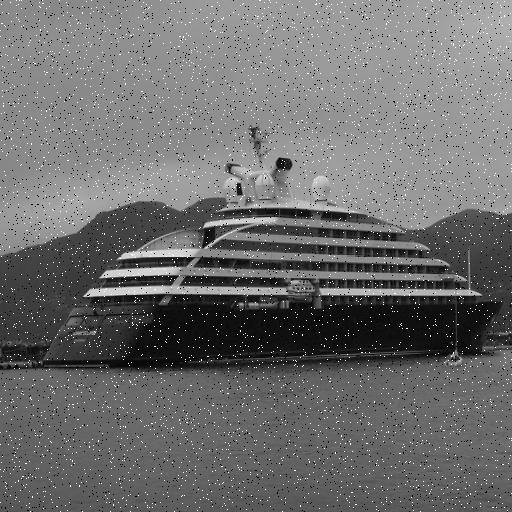cruises: (41, 123, 507, 374)
